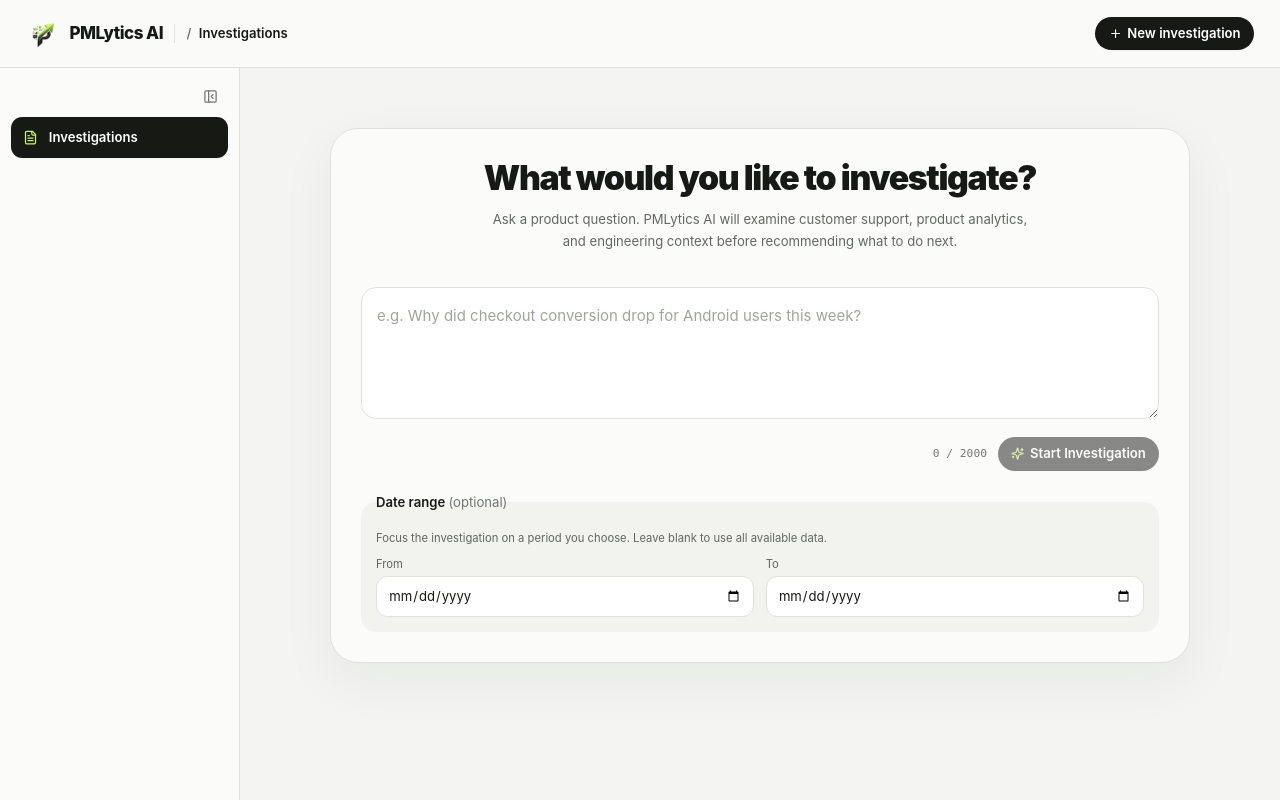
Investigation Launchpad Components › Full InvestigationsPage Integration Flow › handles API submission errors cleanly and displays actionable message
Replace the text in the text box with placeholder "Why did checkout conversion drop" with "Valid question text". click: {"x": 760, "y": 352}
box: [361,286,1159,418]
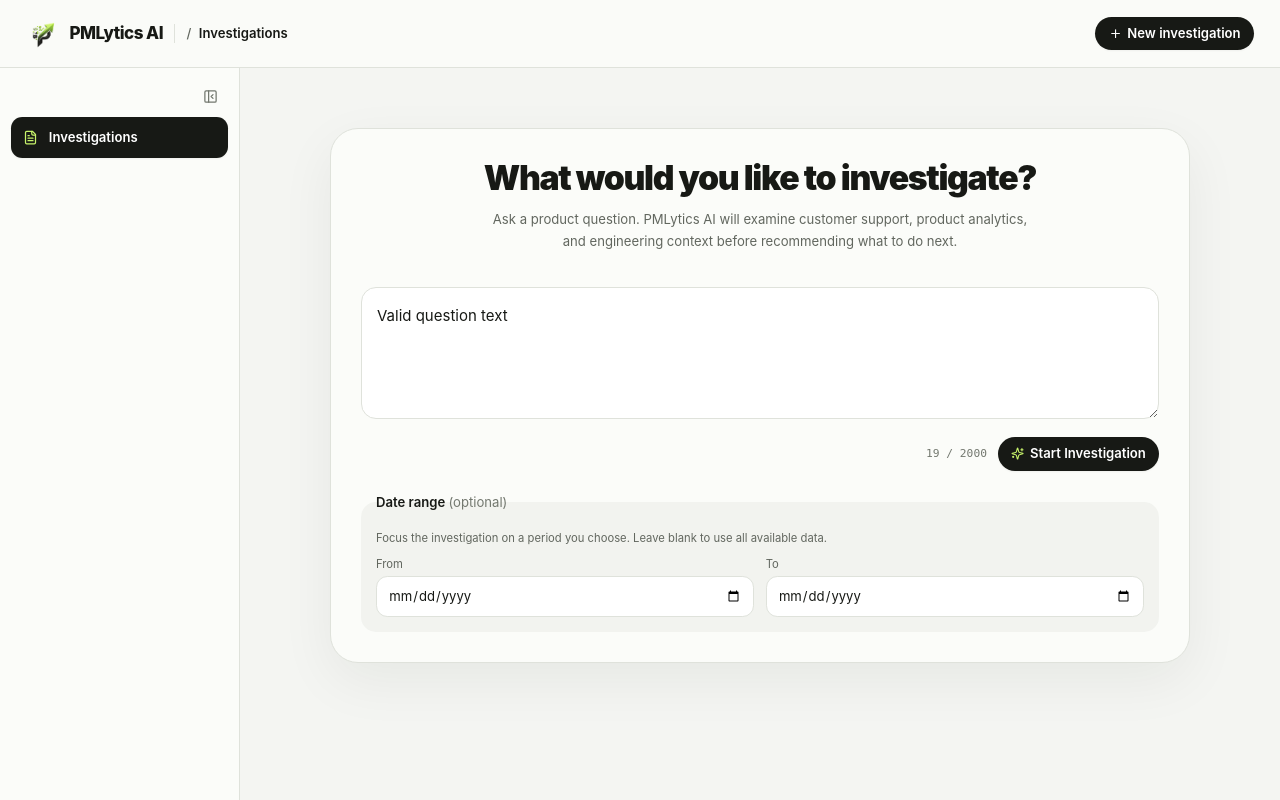
Click the button "Start Investigation". click: {"x": 1079, "y": 454}
box: [998,437,1159,471]
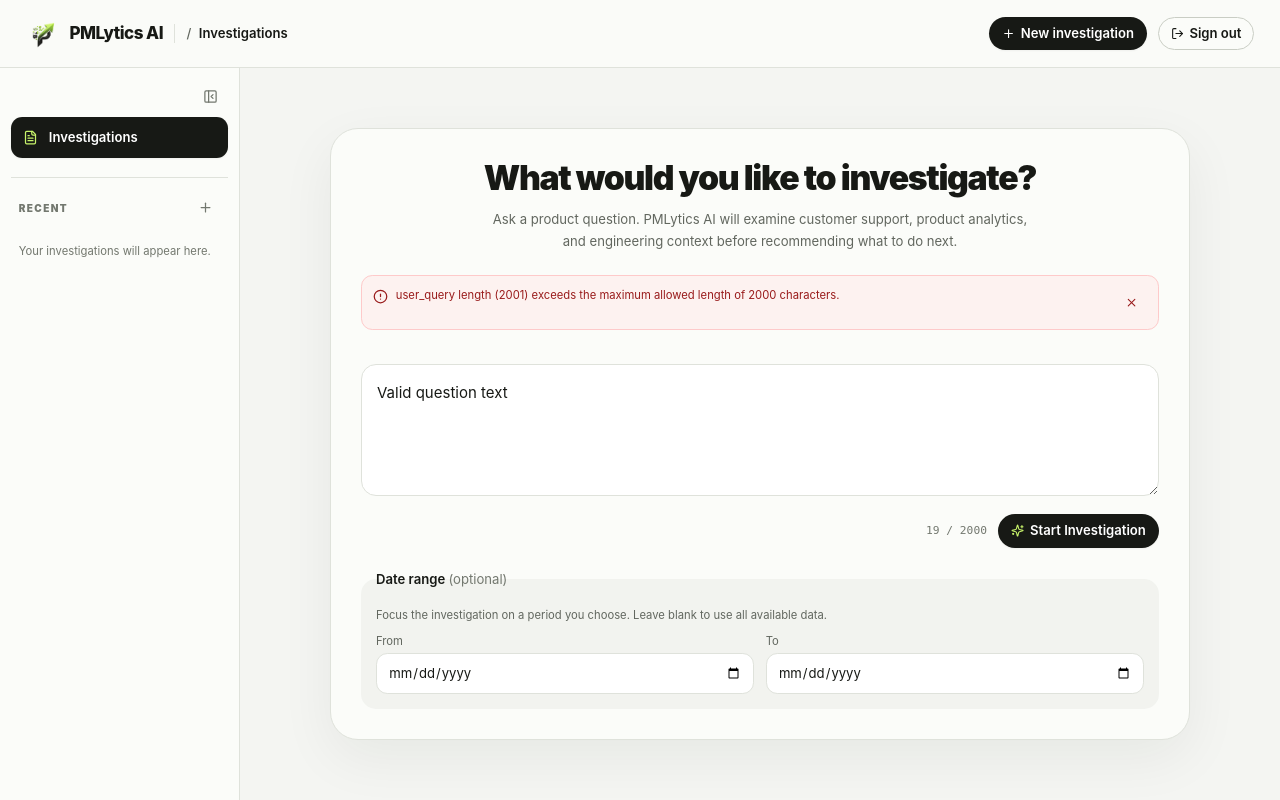
expect the message is shown: met, box [361,275,1159,330]
expect the text "exceeds the maximum allowed length of 2000 characters" is shown: met, box [396,288,840,302]
